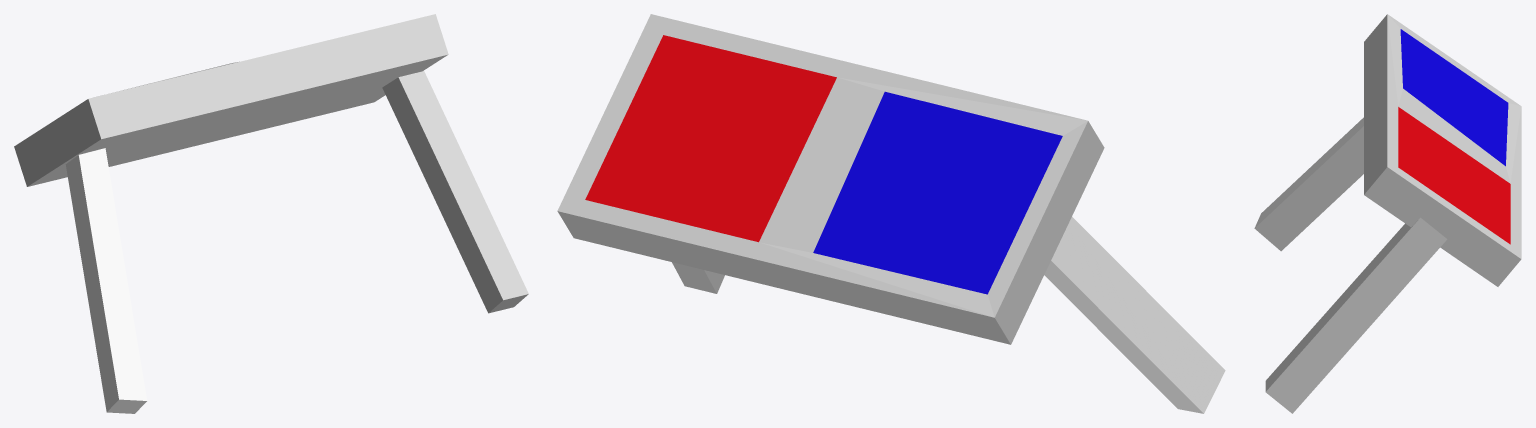
Rendered from 3D Glasses Cosmetic.fbx.
The picture shows the model from 3 angles, left to right: view 1: azimuth 30°, elevation 25°; view 2: azimuth 150°, elevation 25°; view 3: azimuth 270°, elevation 25°; orthographic projection. The views are drawn at different scales.
Visible parts, largest first — view 1: Cube.002; view 2: Cube.002; view 3: Cube.002.
Part boxes in pixels (left/top/right/bottom): Cube.002: left=14, top=14, right=528, bottom=413; Cube.002: left=557, top=14, right=1225, bottom=413; Cube.002: left=1254, top=14, right=1521, bottom=413.
Size of the model in its own units: 76.67 by 47.82 by 47.65.
